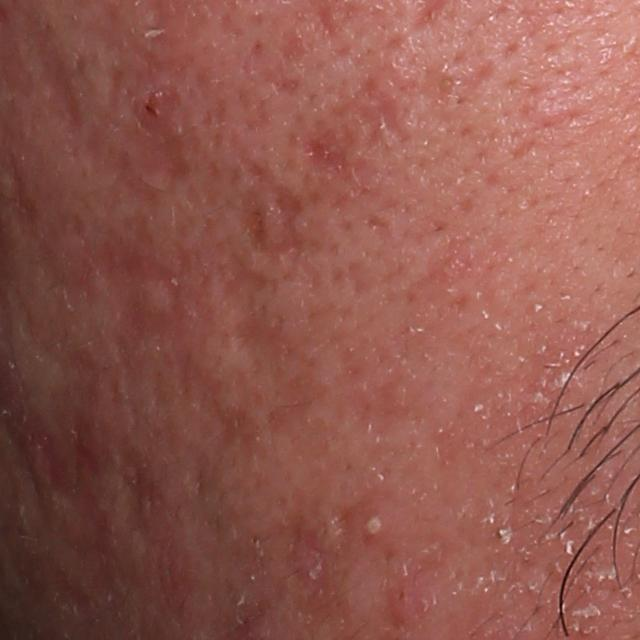atrophic_scar: (97, 253, 221, 423), (296, 39, 417, 213), (233, 147, 337, 288), (31, 24, 89, 134), (42, 421, 109, 515), (114, 448, 161, 540), (290, 531, 329, 591)
pustule: (356, 499, 401, 550)
